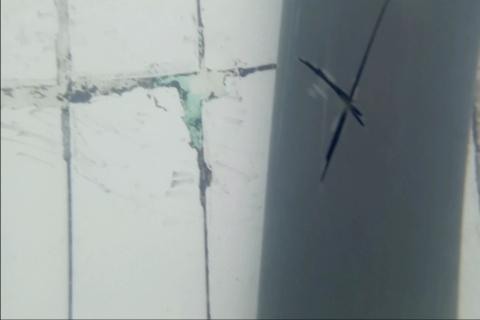keretakan: (299, 0, 390, 188)
